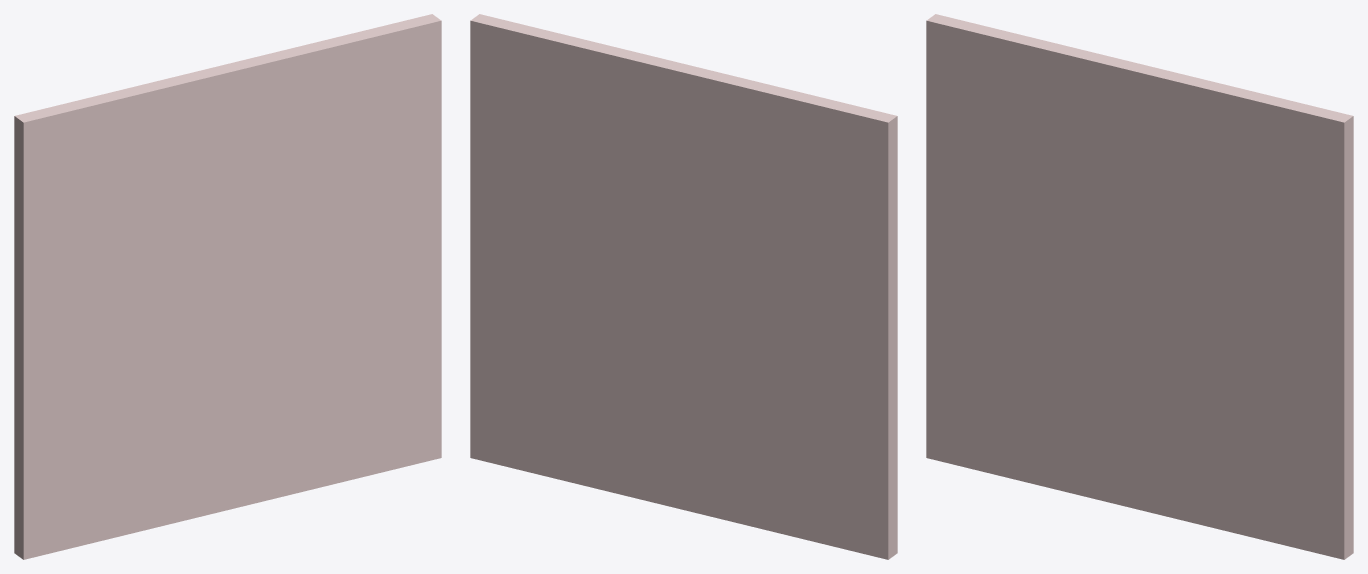
File: tinyglow.fbx
3 renders of one model, left to right at view 1: azimuth 30°, elevation 25°; view 2: azimuth 150°, elevation 25°; view 3: azimuth 330°, elevation 25°, orthographic.
Parts seen in each view (by area): view 1: tinyglow; view 2: tinyglow; view 3: tinyglow.
Boxes of the visible parts, left/top/right/bottom form: tinyglow: left=14, top=14, right=441, bottom=559; tinyglow: left=470, top=14, right=897, bottom=559; tinyglow: left=926, top=14, right=1353, bottom=559.
Bounding box in the file's own units: 265 × 265 × 10.
